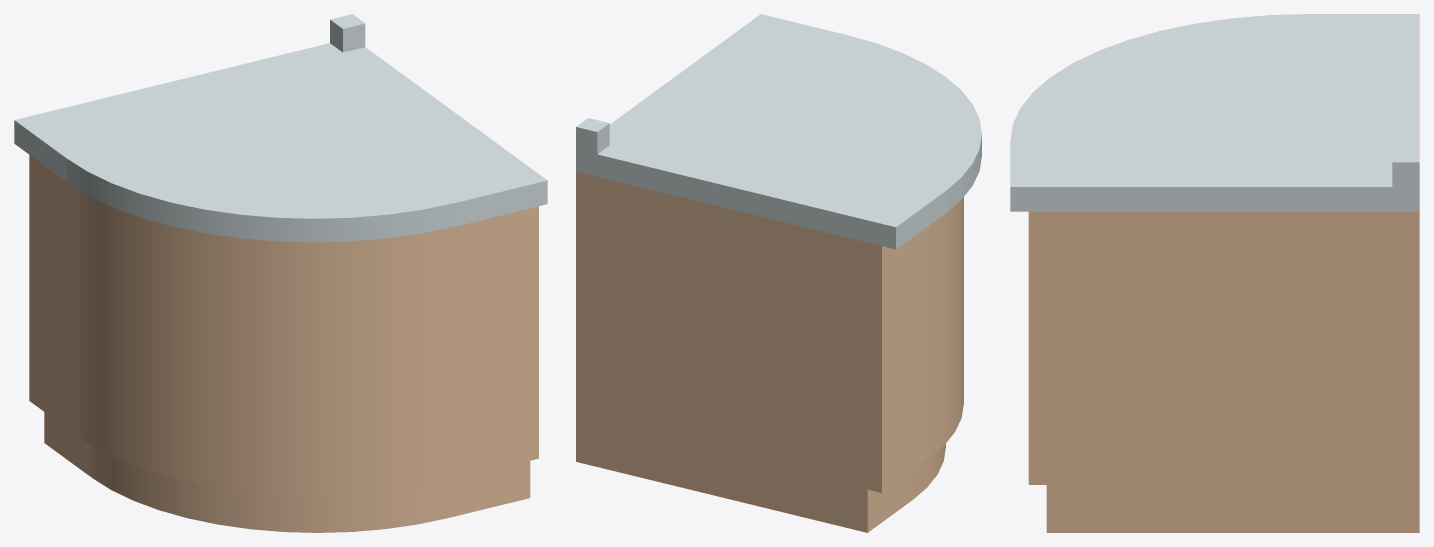
The model's file is kitchenCabinetCornerRound.glb.
The picture shows the model from 3 angles, left to right: view 1: azimuth 30°, elevation 25°; view 2: azimuth 150°, elevation 25°; view 3: azimuth 270°, elevation 25°; orthographic projection. The views are drawn at different scales.
Visible parts, largest first — view 1: kitchenCabinetCornerRound(Clone); view 2: kitchenCabinetCornerRound(Clone); view 3: kitchenCabinetCornerRound(Clone).
Boxes of the visible parts, x1,y1,x2,y2 form: kitchenCabinetCornerRound(Clone): (14, 14, 547, 532); kitchenCabinetCornerRound(Clone): (576, 14, 981, 532); kitchenCabinetCornerRound(Clone): (1010, 14, 1419, 532).
Size of the model in its own units: 0.9135 by 0.9135 by 0.9135.
Materials: 2 (2 with a texture image).
